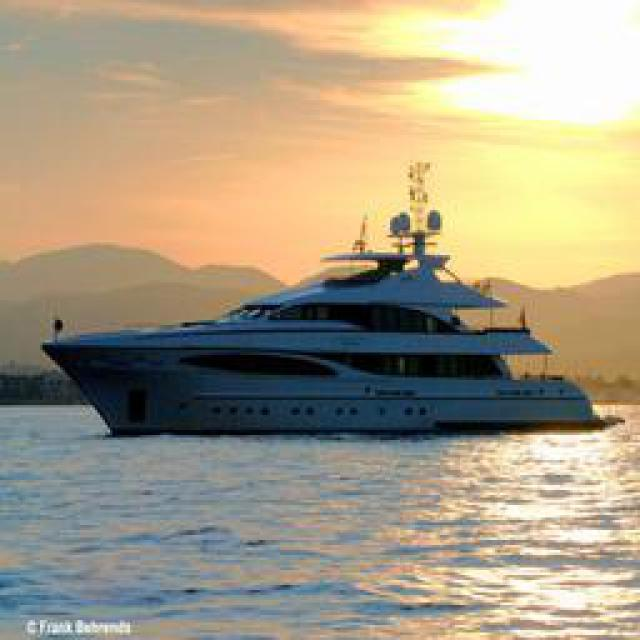Ship: (40, 185, 595, 438)
